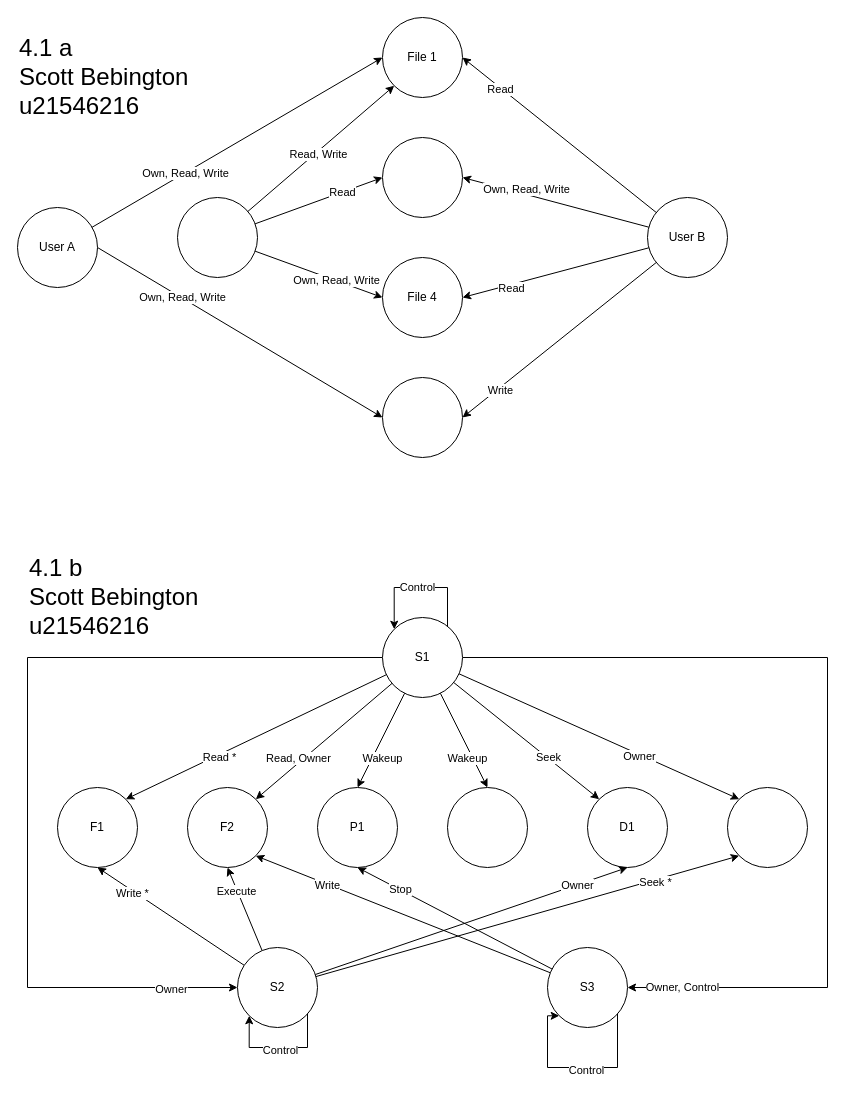
Image size: 853x1094. Some labels were removed from this diagram. Each missing label, with the centre of its shape:
D2: the point at 767,827
File 2: the point at 422,177
File 3: the point at 422,417
P2: the point at 487,827
User C: the point at 217,237
